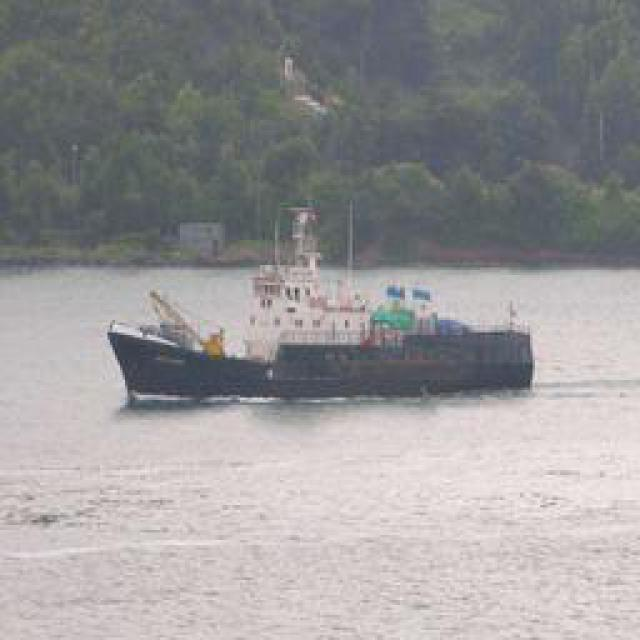Ship: (113, 220, 538, 405)
